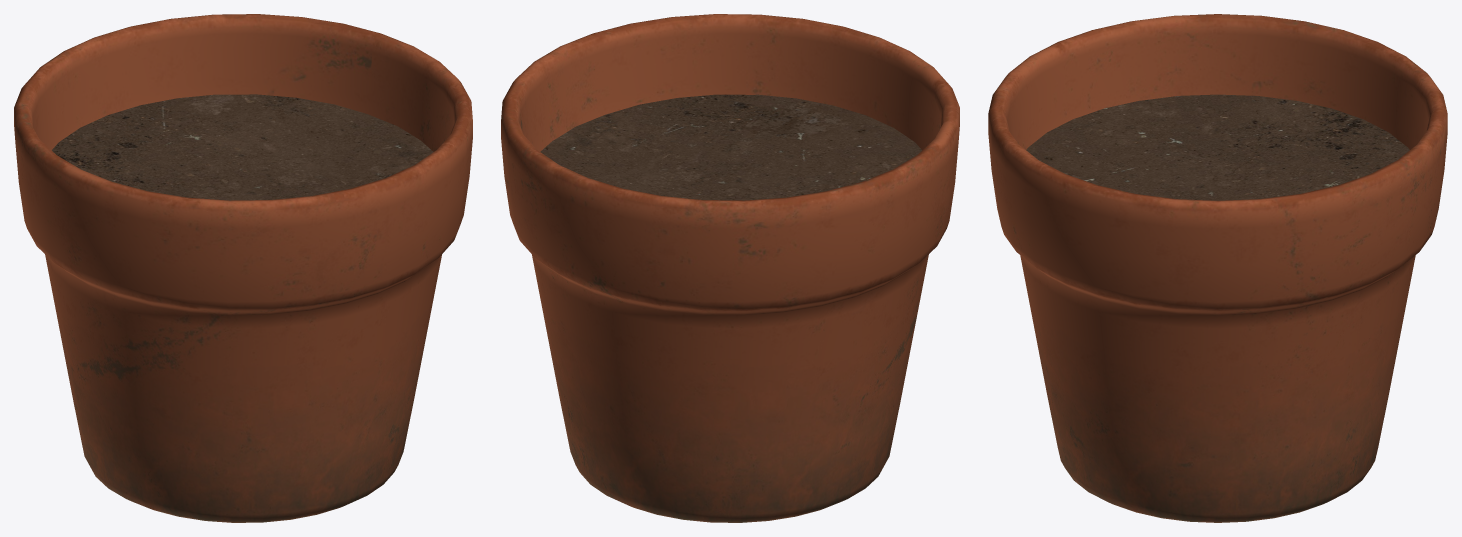
Rendered from flower-pot.glb.
3 views of the same model, side by side, from view 1: azimuth 30°, elevation 25°; view 2: azimuth 150°, elevation 25°; view 3: azimuth 270°, elevation 25° (orthographic).
Visible parts, largest first — view 1: Plant_pot_low; view 2: Plant_pot_low; view 3: Plant_pot_low.
Boxes of the visible parts, <box> form: Plant_pot_low: <box>14,14,472,522</box>; Plant_pot_low: <box>501,14,959,522</box>; Plant_pot_low: <box>988,14,1447,522</box>.
Bounding box in the file's own units: 2 × 1.7 × 2.
1 material, 1 textured.
